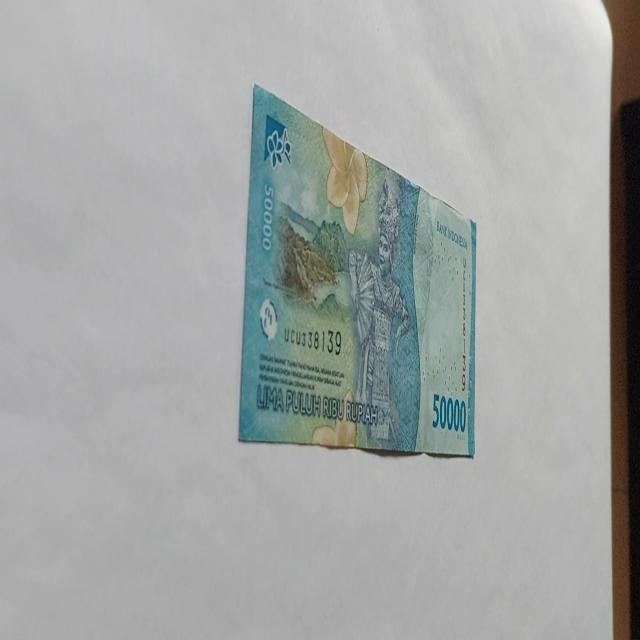lima puluh ribu rupiah: (237, 82, 478, 458)
